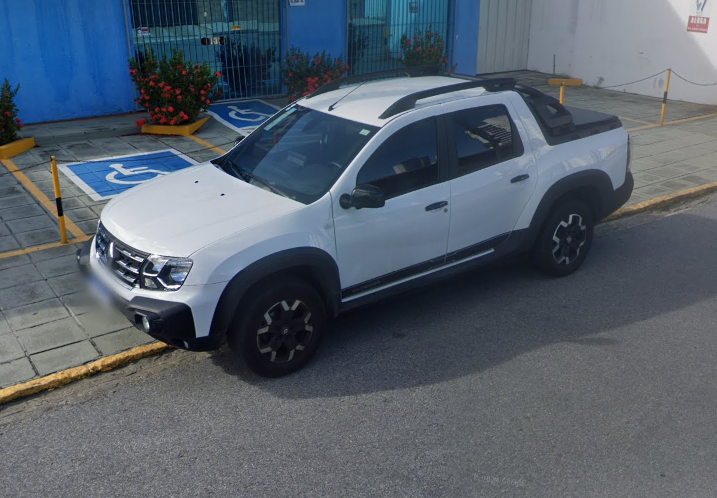car: (76, 65, 636, 382)
